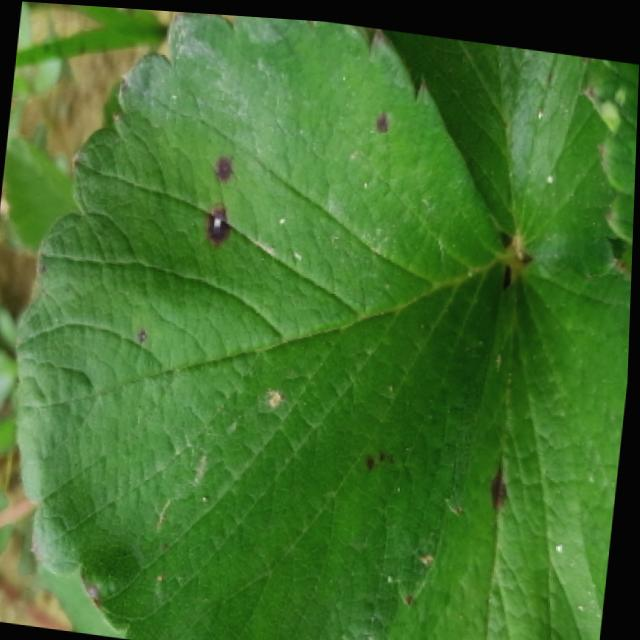Leaf Spot: (18, 9, 510, 640), (394, 254, 633, 640), (385, 24, 617, 283)
